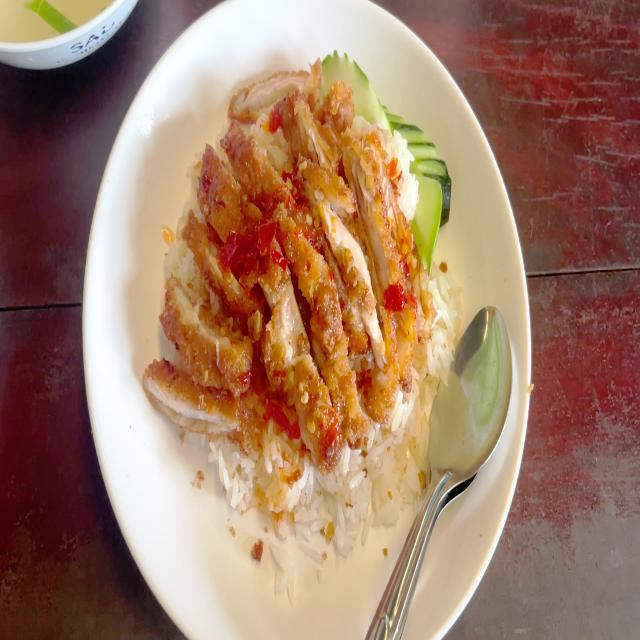chicken_rice: (150, 56, 472, 568)
cucumber: (379, 88, 457, 280), (319, 49, 396, 150)
fried_chicken: (146, 70, 436, 456)
